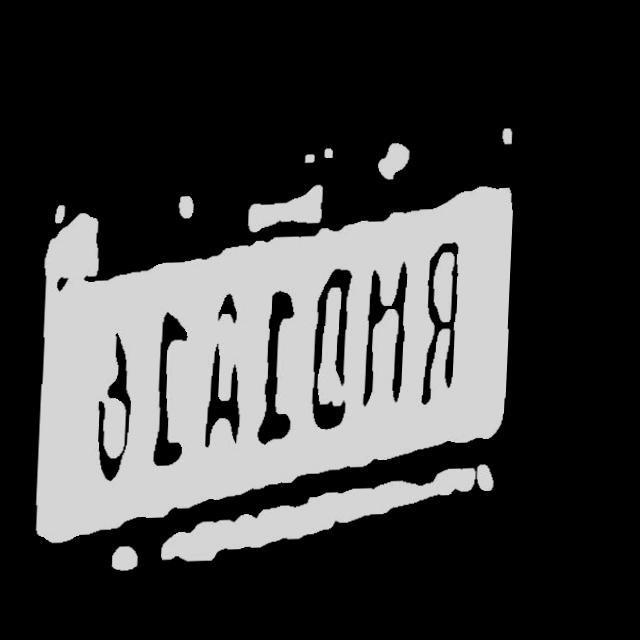1: (149, 309, 200, 473), (258, 287, 307, 449)
6: (94, 320, 145, 487)
a: (206, 286, 255, 461)
d: (309, 264, 358, 439)
h: (360, 254, 419, 422)
r: (419, 236, 472, 413)
